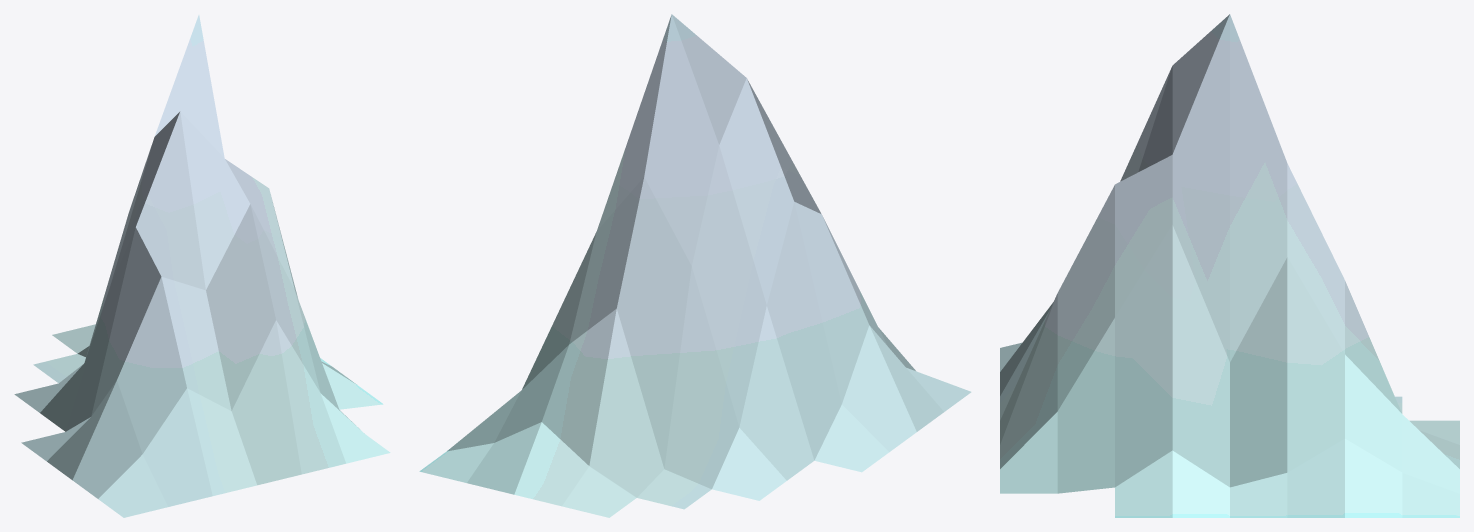
File: SS_Glazier1.fbx
The picture shows the model from 3 angles, left to right: view 1: azimuth 30°, elevation 25°; view 2: azimuth 150°, elevation 25°; view 3: azimuth 270°, elevation 25°; orthographic projection. The views are drawn at different scales.
Parts seen in each view (by area): view 1: Glazier1; view 2: Glazier1; view 3: Glazier1.
Boxes of the visible parts, x1=… form: Glazier1: x1=14, y1=15, x2=390, y2=517; Glazier1: x1=419, y1=14, x2=971, y2=517; Glazier1: x1=1000, y1=14, x2=1459, y2=517.
Size of the model in its own units: 3.27 by 3.86 by 3.73.
